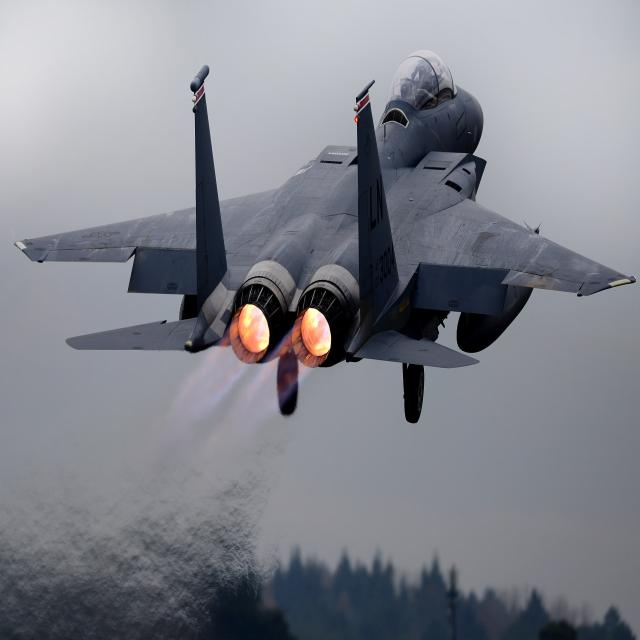F15: (0, 22, 640, 494)
